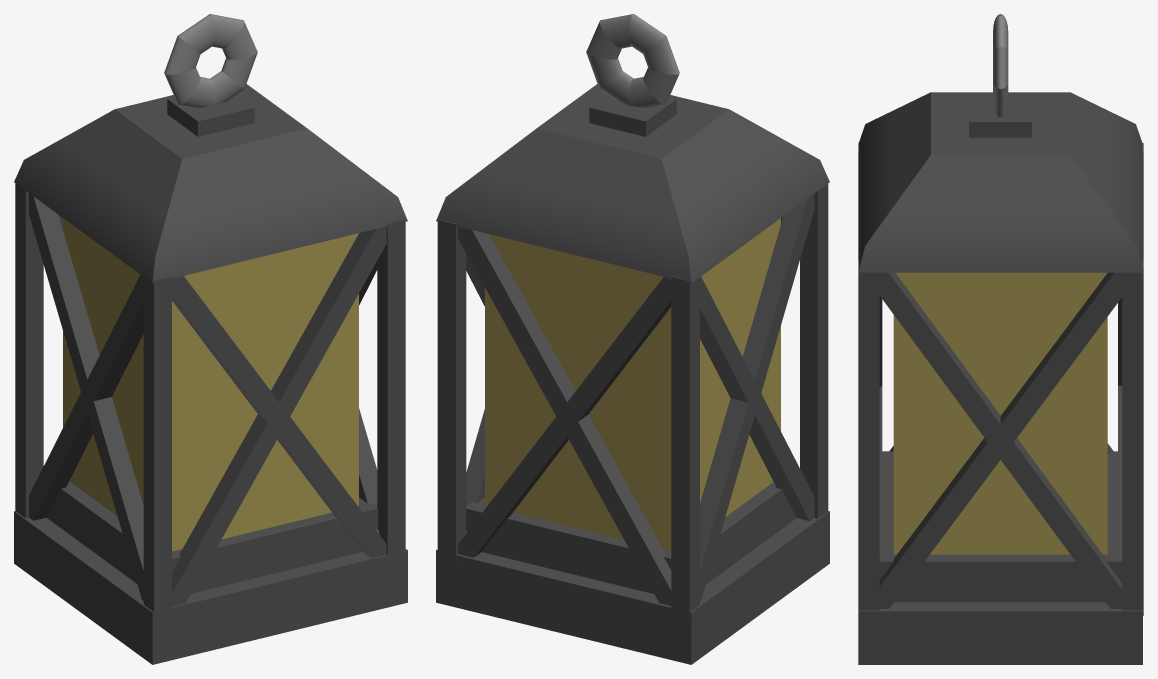
Rendered from lantern.fbx.
3 renders of one model, left to right at view 1: azimuth 30°, elevation 25°; view 2: azimuth 150°, elevation 25°; view 3: azimuth 270°, elevation 25°, orthographic. The views are drawn at different scales.
Visible parts, largest first — view 1: polySurface2, polySurface1, pasted__pCube4, pasted__pasted__pCube6, pCube4, pCube5, pCube6, pasted__pasted__pCube4, pasted__pasted__pasted__pCube6, pTorus1, pasted__pasted__pCube5; view 2: polySurface2, polySurface1, pasted__pasted__pasted__pasted__pCube4, pasted__pasted__pasted__pCube6, pCube6, pCube7, pCube4, pasted__pasted__pasted__pCube5, pasted__pasted__pCube6, pTorus1, pasted__pasted__pasted__pCube4; view 3: polySurface2, polySurface1, pasted__pasted__pCube5, pasted__pasted__pasted__pCube4, pCube7, pCube5, pTorus1, pasted__pasted__pasted__pCube5, pasted__pasted__pCube4, pasted__pasted__pasted__pasted__pCube4.
Part boxes in pixels (bbox=[...]): polySurface2: bbox=[14, 218, 407, 664]; polySurface1: bbox=[14, 84, 407, 283]; pasted__pCube4: bbox=[172, 226, 386, 606]; pasted__pasted__pCube6: bbox=[29, 193, 143, 600]; pCube4: bbox=[143, 276, 171, 612]; pCube5: bbox=[377, 219, 405, 554]; pCube6: bbox=[15, 183, 43, 518]; pasted__pasted__pCube4: bbox=[172, 276, 386, 557]; pasted__pasted__pasted__pCube6: bbox=[29, 275, 143, 520]; pTorus1: bbox=[164, 14, 257, 108]; pasted__pasted__pCube5: bbox=[359, 408, 379, 534]; polySurface2: bbox=[436, 218, 829, 664]; polySurface1: bbox=[436, 84, 829, 283]; pasted__pasted__pasted__pasted__pCube4: bbox=[458, 226, 671, 605]; pasted__pasted__pasted__pCube6: bbox=[700, 193, 814, 601]; pCube6: bbox=[671, 276, 699, 618]; pCube7: bbox=[437, 219, 466, 561]; pCube4: bbox=[800, 183, 828, 518]; pasted__pasted__pasted__pCube5: bbox=[458, 277, 671, 557]; pasted__pasted__pCube6: bbox=[669, 276, 814, 521]; pTorus1: bbox=[586, 14, 679, 108]; pasted__pasted__pasted__pCube4: bbox=[464, 409, 484, 535]; polySurface2: bbox=[858, 272, 1142, 664]; polySurface1: bbox=[858, 92, 1142, 272]; pasted__pasted__pCube5: bbox=[879, 272, 1122, 608]; pasted__pasted__pasted__pCube4: bbox=[879, 272, 1122, 608]; pCube7: bbox=[1122, 260, 1143, 615]; pCube5: bbox=[858, 260, 879, 610]; pTorus1: bbox=[993, 14, 1008, 117]; pasted__pasted__pasted__pCube5: bbox=[1118, 385, 1122, 550]; pasted__pasted__pCube4: bbox=[879, 386, 882, 550]; pasted__pasted__pasted__pasted__pCube4: bbox=[1118, 297, 1122, 385].
Bounding box in the file's own units: 0.6166 × 1.31 × 0.5807.
